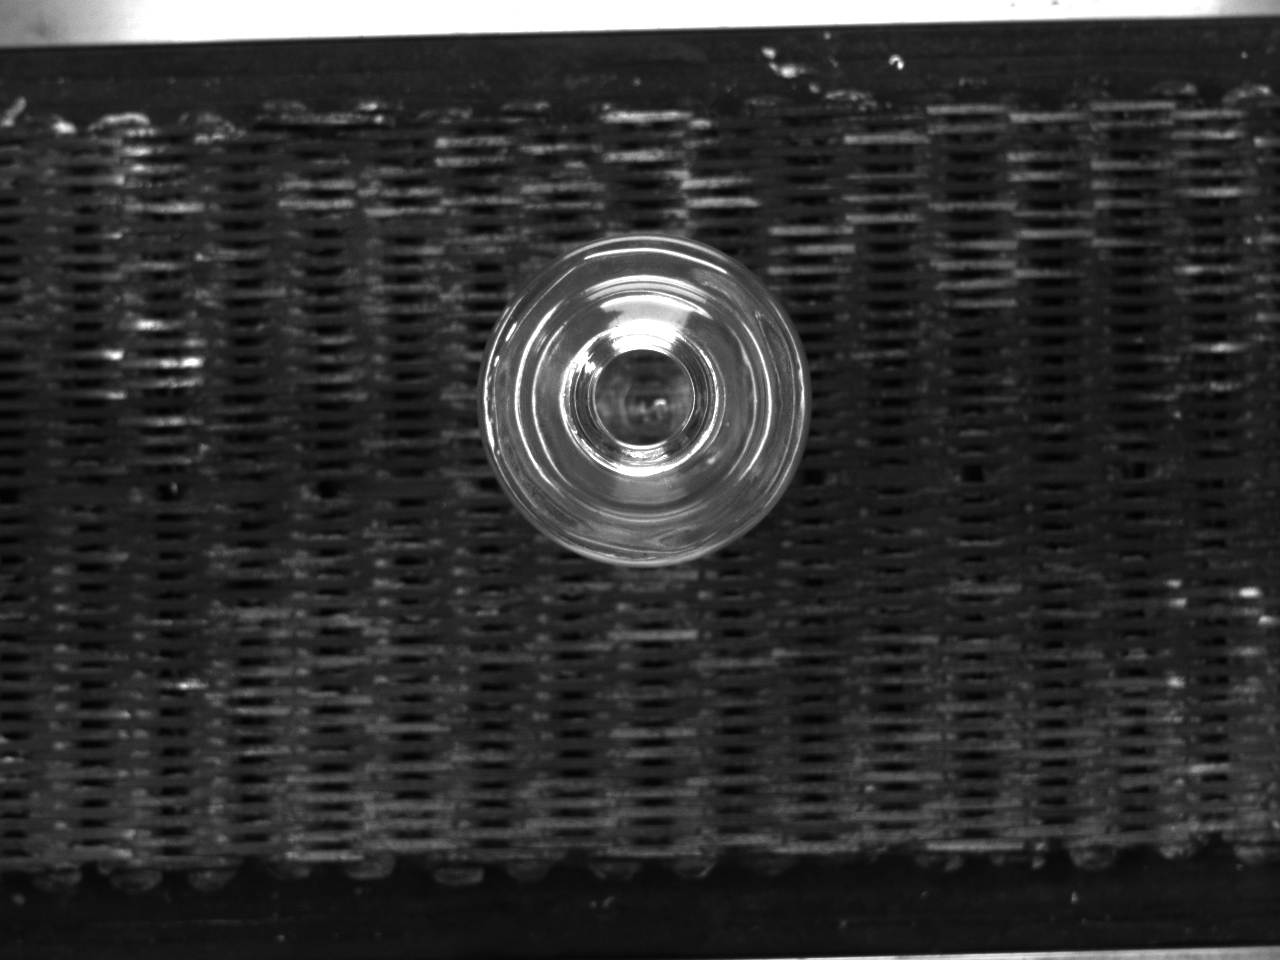bottleneck: (561, 323, 719, 475)
